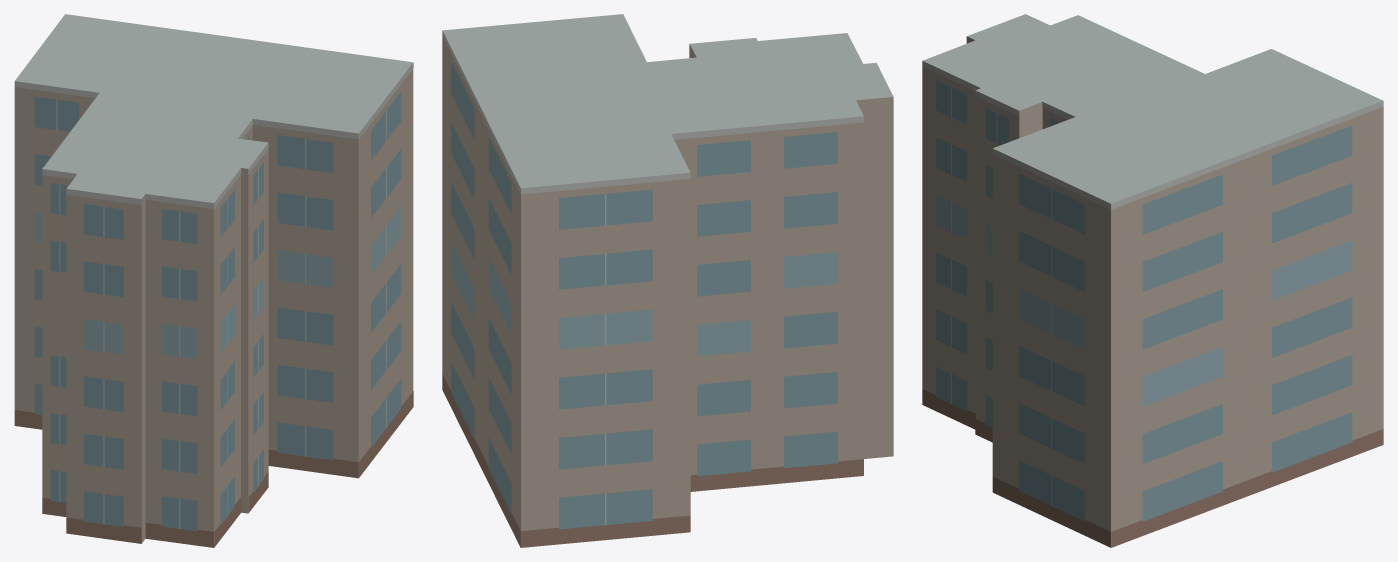
Rendered from survey-upis-32514802.glb.
3 renders of one model, left to right at view 1: azimuth 30°, elevation 25°; view 2: azimuth 150°, elevation 25°; view 3: azimuth 270°, elevation 25°, orthographic. The views are drawn at different scales.
Visible parts, largest first — view 1: survey-upis-32514802.tmp; view 2: survey-upis-32514802.tmp; view 3: survey-upis-32514802.tmp.
Part boxes in pixels (x1,y1,x2,y2): survey-upis-32514802.tmp: (14,14,413,547); survey-upis-32514802.tmp: (442,14,893,547); survey-upis-32514802.tmp: (922,14,1383,547).
Bounding box in the file's own units: 16.93 × 14.3 × 17.38.
